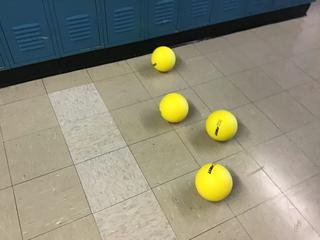power_cell: (192, 161, 237, 203), (203, 108, 241, 143), (159, 92, 191, 124), (149, 45, 179, 74)
